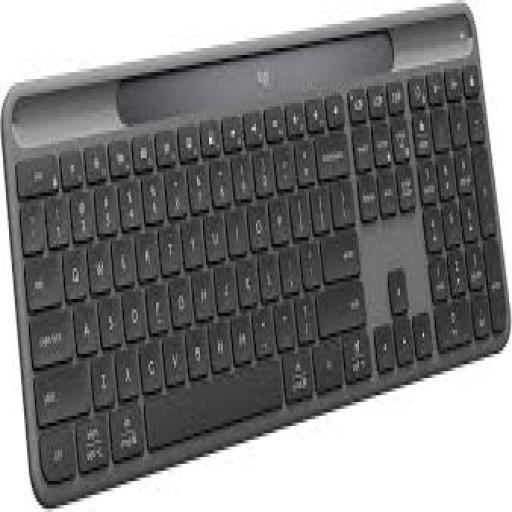KEYBOARD-2: (3, 3, 510, 505)
